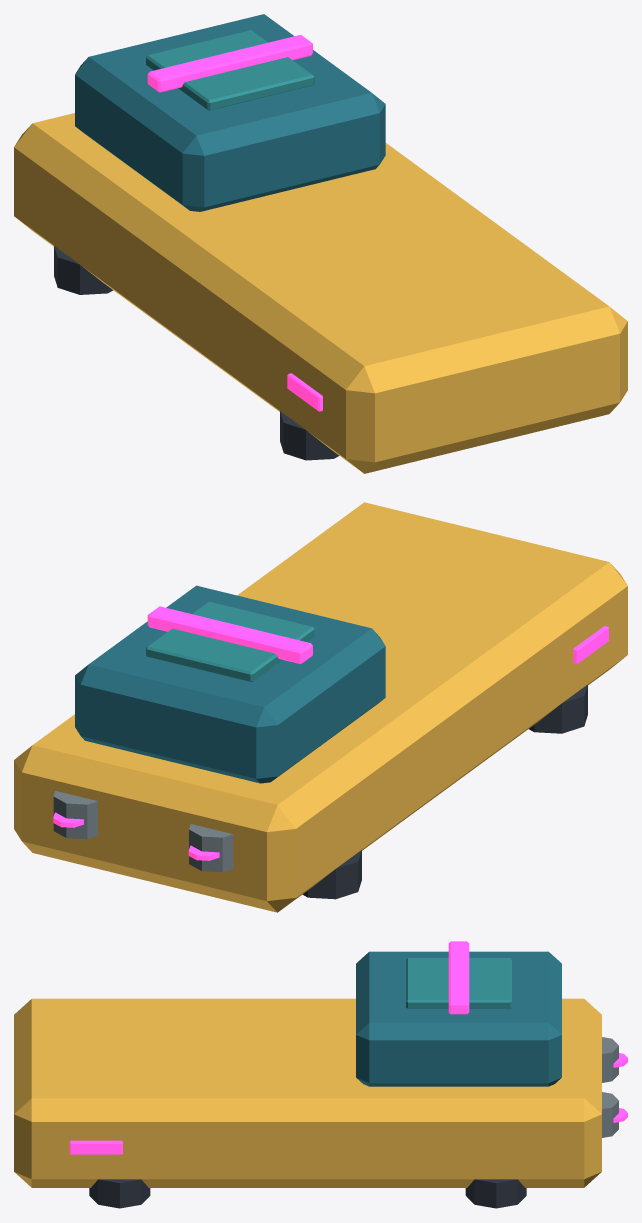
File: vehicles_007_seed11.glb
3 views of the same model, one above another, from view 1: azimuth 30°, elevation 25°; view 2: azimuth 150°, elevation 25°; view 3: azimuth 270°, elevation 25° (orthographic). The views are drawn at different scales.
Visible parts, largest first — view 1: vehicles_007_seed11; view 2: vehicles_007_seed11; view 3: vehicles_007_seed11.
Part boxes in pixels (x1,y1,x2,y2): vehicles_007_seed11: [14, 14, 627, 473]; vehicles_007_seed11: [14, 502, 627, 912]; vehicles_007_seed11: [14, 941, 627, 1208].
Bounding box in the file's own units: 2.27 × 1.55 × 4.82.
